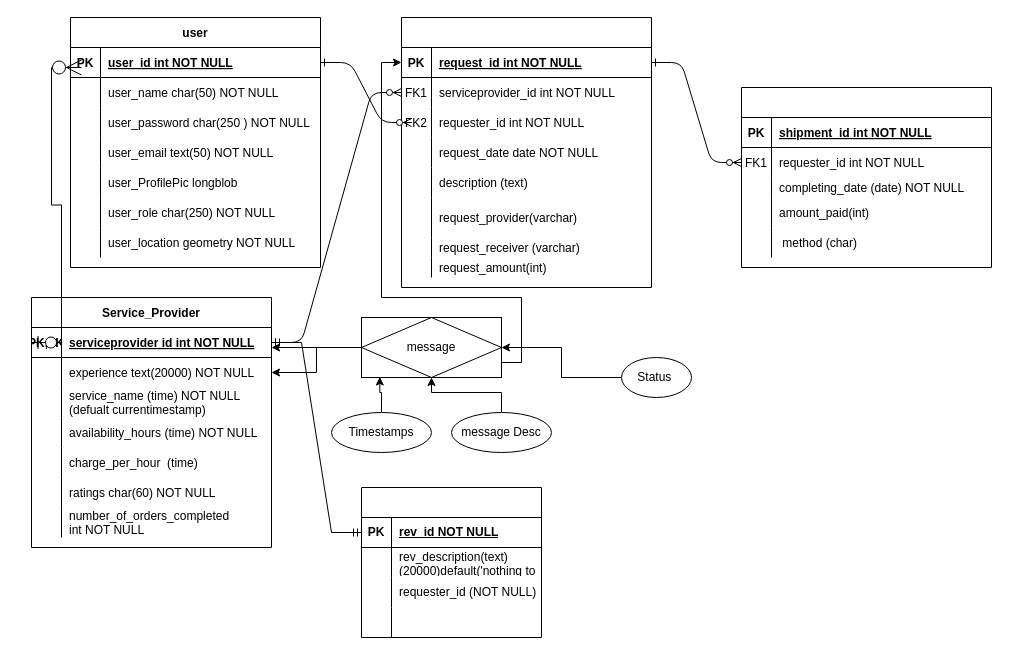
This 1009x655 diagram has some shape labels left out. The shapes that lost their labels are listed below. From the top down, each one's box as (x1, y1, x2, y2) in pixels, then its label:
(400, 16, 652, 288): Requests
(740, 86, 992, 268): Payment
(360, 486, 542, 638): Review
